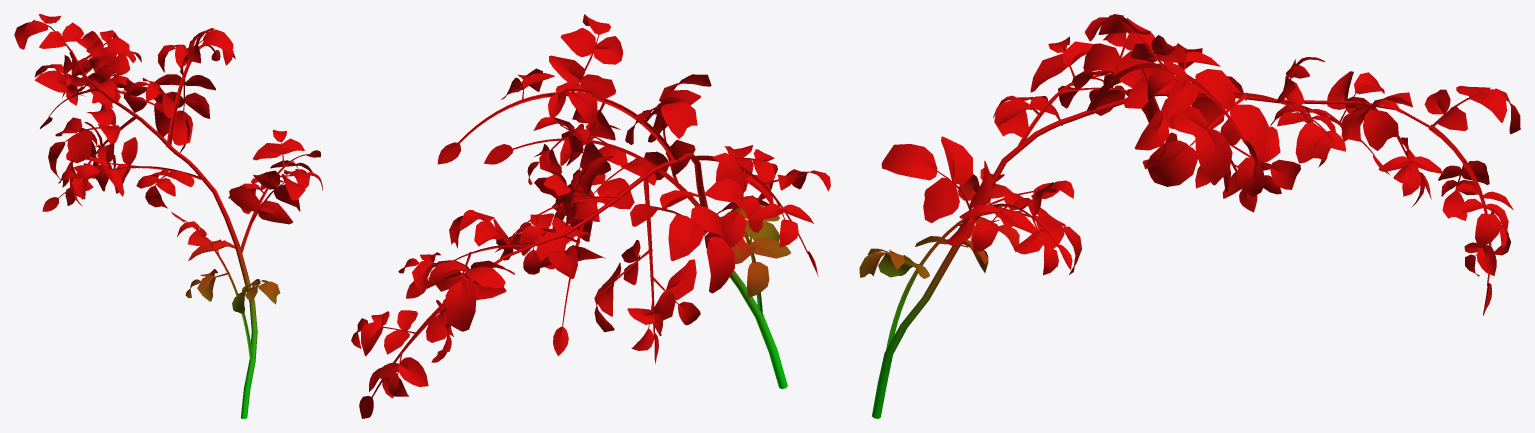
Rendered from Raspberry_LOD0_Var7_wf0oefeja.fbx.
3 views of the same model, side by side, from view 1: azimuth 30°, elevation 25°; view 2: azimuth 150°, elevation 25°; view 3: azimuth 270°, elevation 25° (orthographic). The views are drawn at different scales.
Visible parts, largest first — view 1: _qwe1_Var7_LOD0; view 2: _qwe1_Var7_LOD0; view 3: _qwe1_Var7_LOD0.
Part boxes in pixels (x1,y1,x2,y2): _qwe1_Var7_LOD0: [14, 14, 322, 418]; _qwe1_Var7_LOD0: [351, 14, 830, 418]; _qwe1_Var7_LOD0: [859, 14, 1520, 418].
Bounding box in the file's own units: 42.09 × 48.69 × 65.96.
